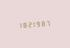eight: (22, 20, 26, 28), (42, 19, 46, 27)
nine: (37, 19, 41, 27)
one: (17, 21, 21, 28), (32, 20, 36, 27)
seven: (47, 19, 51, 26)
two: (27, 20, 31, 28)
